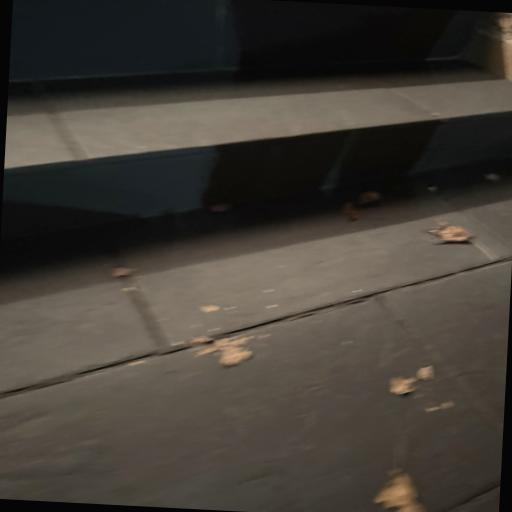debris: (374, 470, 425, 512), (187, 336, 253, 367), (390, 366, 434, 396), (429, 221, 473, 243), (112, 267, 132, 277)
stairs: (1, 0, 512, 236)
